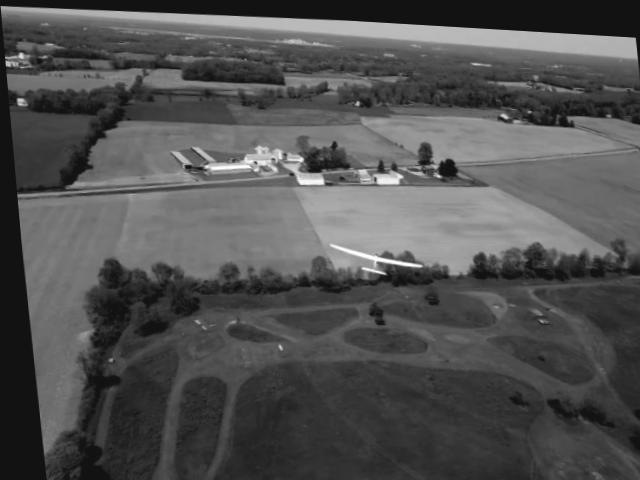hedef: (319, 225, 422, 279)
